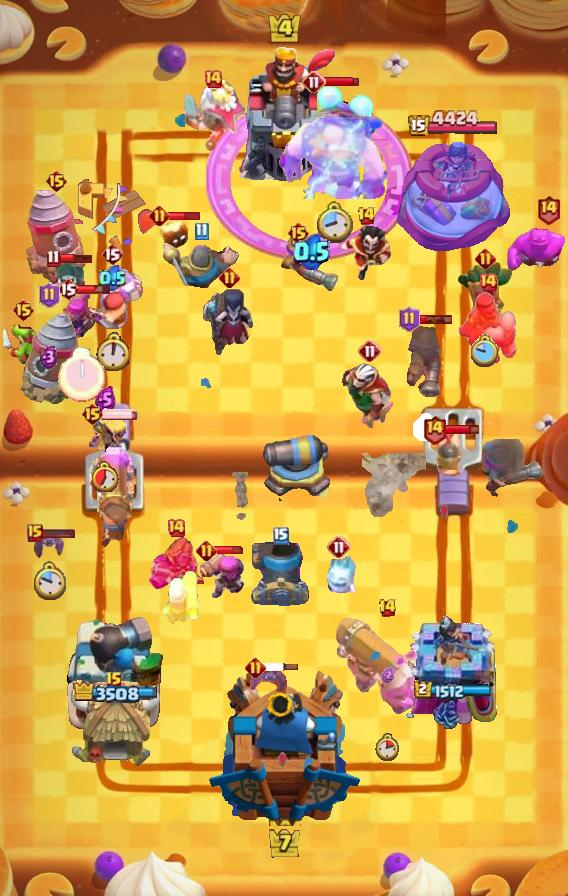archer-evolution: (57, 291, 105, 353)
bandit: (42, 259, 92, 313)
bar: (101, 408, 139, 420), (445, 423, 480, 436), (40, 527, 76, 539), (324, 76, 360, 88), (77, 283, 112, 295), (167, 210, 202, 222), (58, 253, 94, 264), (418, 314, 453, 325), (263, 662, 299, 672), (214, 545, 246, 555)
bar-level: (422, 414, 447, 445), (536, 194, 561, 225), (327, 535, 351, 559), (358, 339, 382, 363), (302, 70, 326, 94), (81, 402, 104, 426), (12, 298, 35, 322), (287, 221, 310, 245), (45, 169, 68, 193), (399, 306, 420, 332), (39, 282, 60, 308), (57, 277, 79, 301), (101, 242, 123, 266), (245, 657, 266, 678), (196, 540, 217, 561), (219, 267, 240, 288), (475, 248, 496, 269), (149, 205, 170, 226), (166, 518, 186, 538), (478, 272, 498, 292), (203, 69, 223, 89), (378, 598, 397, 618), (357, 206, 376, 226), (105, 671, 123, 691), (273, 527, 289, 545), (27, 524, 43, 542), (46, 249, 61, 268), (194, 222, 209, 241)
barbarian-evolution: (83, 412, 128, 453)
bat: (32, 530, 66, 560), (250, 668, 288, 694)
cannoneer-tower: (63, 615, 165, 731)
clock: (58, 347, 105, 402), (314, 199, 353, 243), (32, 561, 66, 602), (95, 332, 129, 371), (471, 334, 500, 367), (92, 461, 119, 492), (413, 413, 438, 441), (375, 733, 399, 761)
dart-goblin: (456, 260, 514, 326)
dirt: (362, 453, 426, 522), (229, 472, 252, 522)
electro-wizard: (338, 224, 394, 282)
elixir: (293, 233, 330, 270), (99, 265, 126, 292), (95, 386, 116, 413), (40, 345, 58, 369), (381, 667, 394, 683)
elixir-golem-mid: (506, 227, 568, 273)
fire-spirit: (160, 219, 190, 251)
firecracker: (197, 548, 247, 600), (159, 568, 201, 626)
goblin: (1, 323, 45, 367)
ice-spirit: (317, 554, 361, 600)
king-tower: (207, 669, 362, 826), (230, 45, 338, 181)
knight: (158, 242, 244, 294)
lumberjack: (80, 267, 144, 333)
mortar: (251, 542, 311, 606)
musketeer: (279, 229, 343, 295), (482, 439, 546, 501), (406, 323, 444, 399)
night-witch: (200, 286, 258, 358)
queen-tower: (390, 137, 516, 256), (405, 614, 502, 731)
ram-rider: (458, 291, 518, 365)
royal-ghost: (179, 78, 247, 152)
royal-hog: (434, 425, 466, 479)
tower-bar: (407, 109, 499, 139), (71, 680, 157, 704), (414, 680, 493, 700)
valkyrie-evolution: (147, 534, 205, 608)
